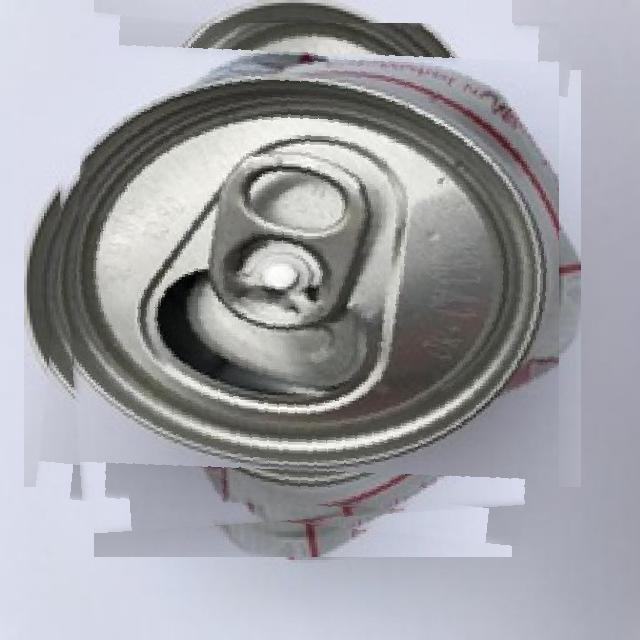recyclable: (47, 23, 559, 534)
